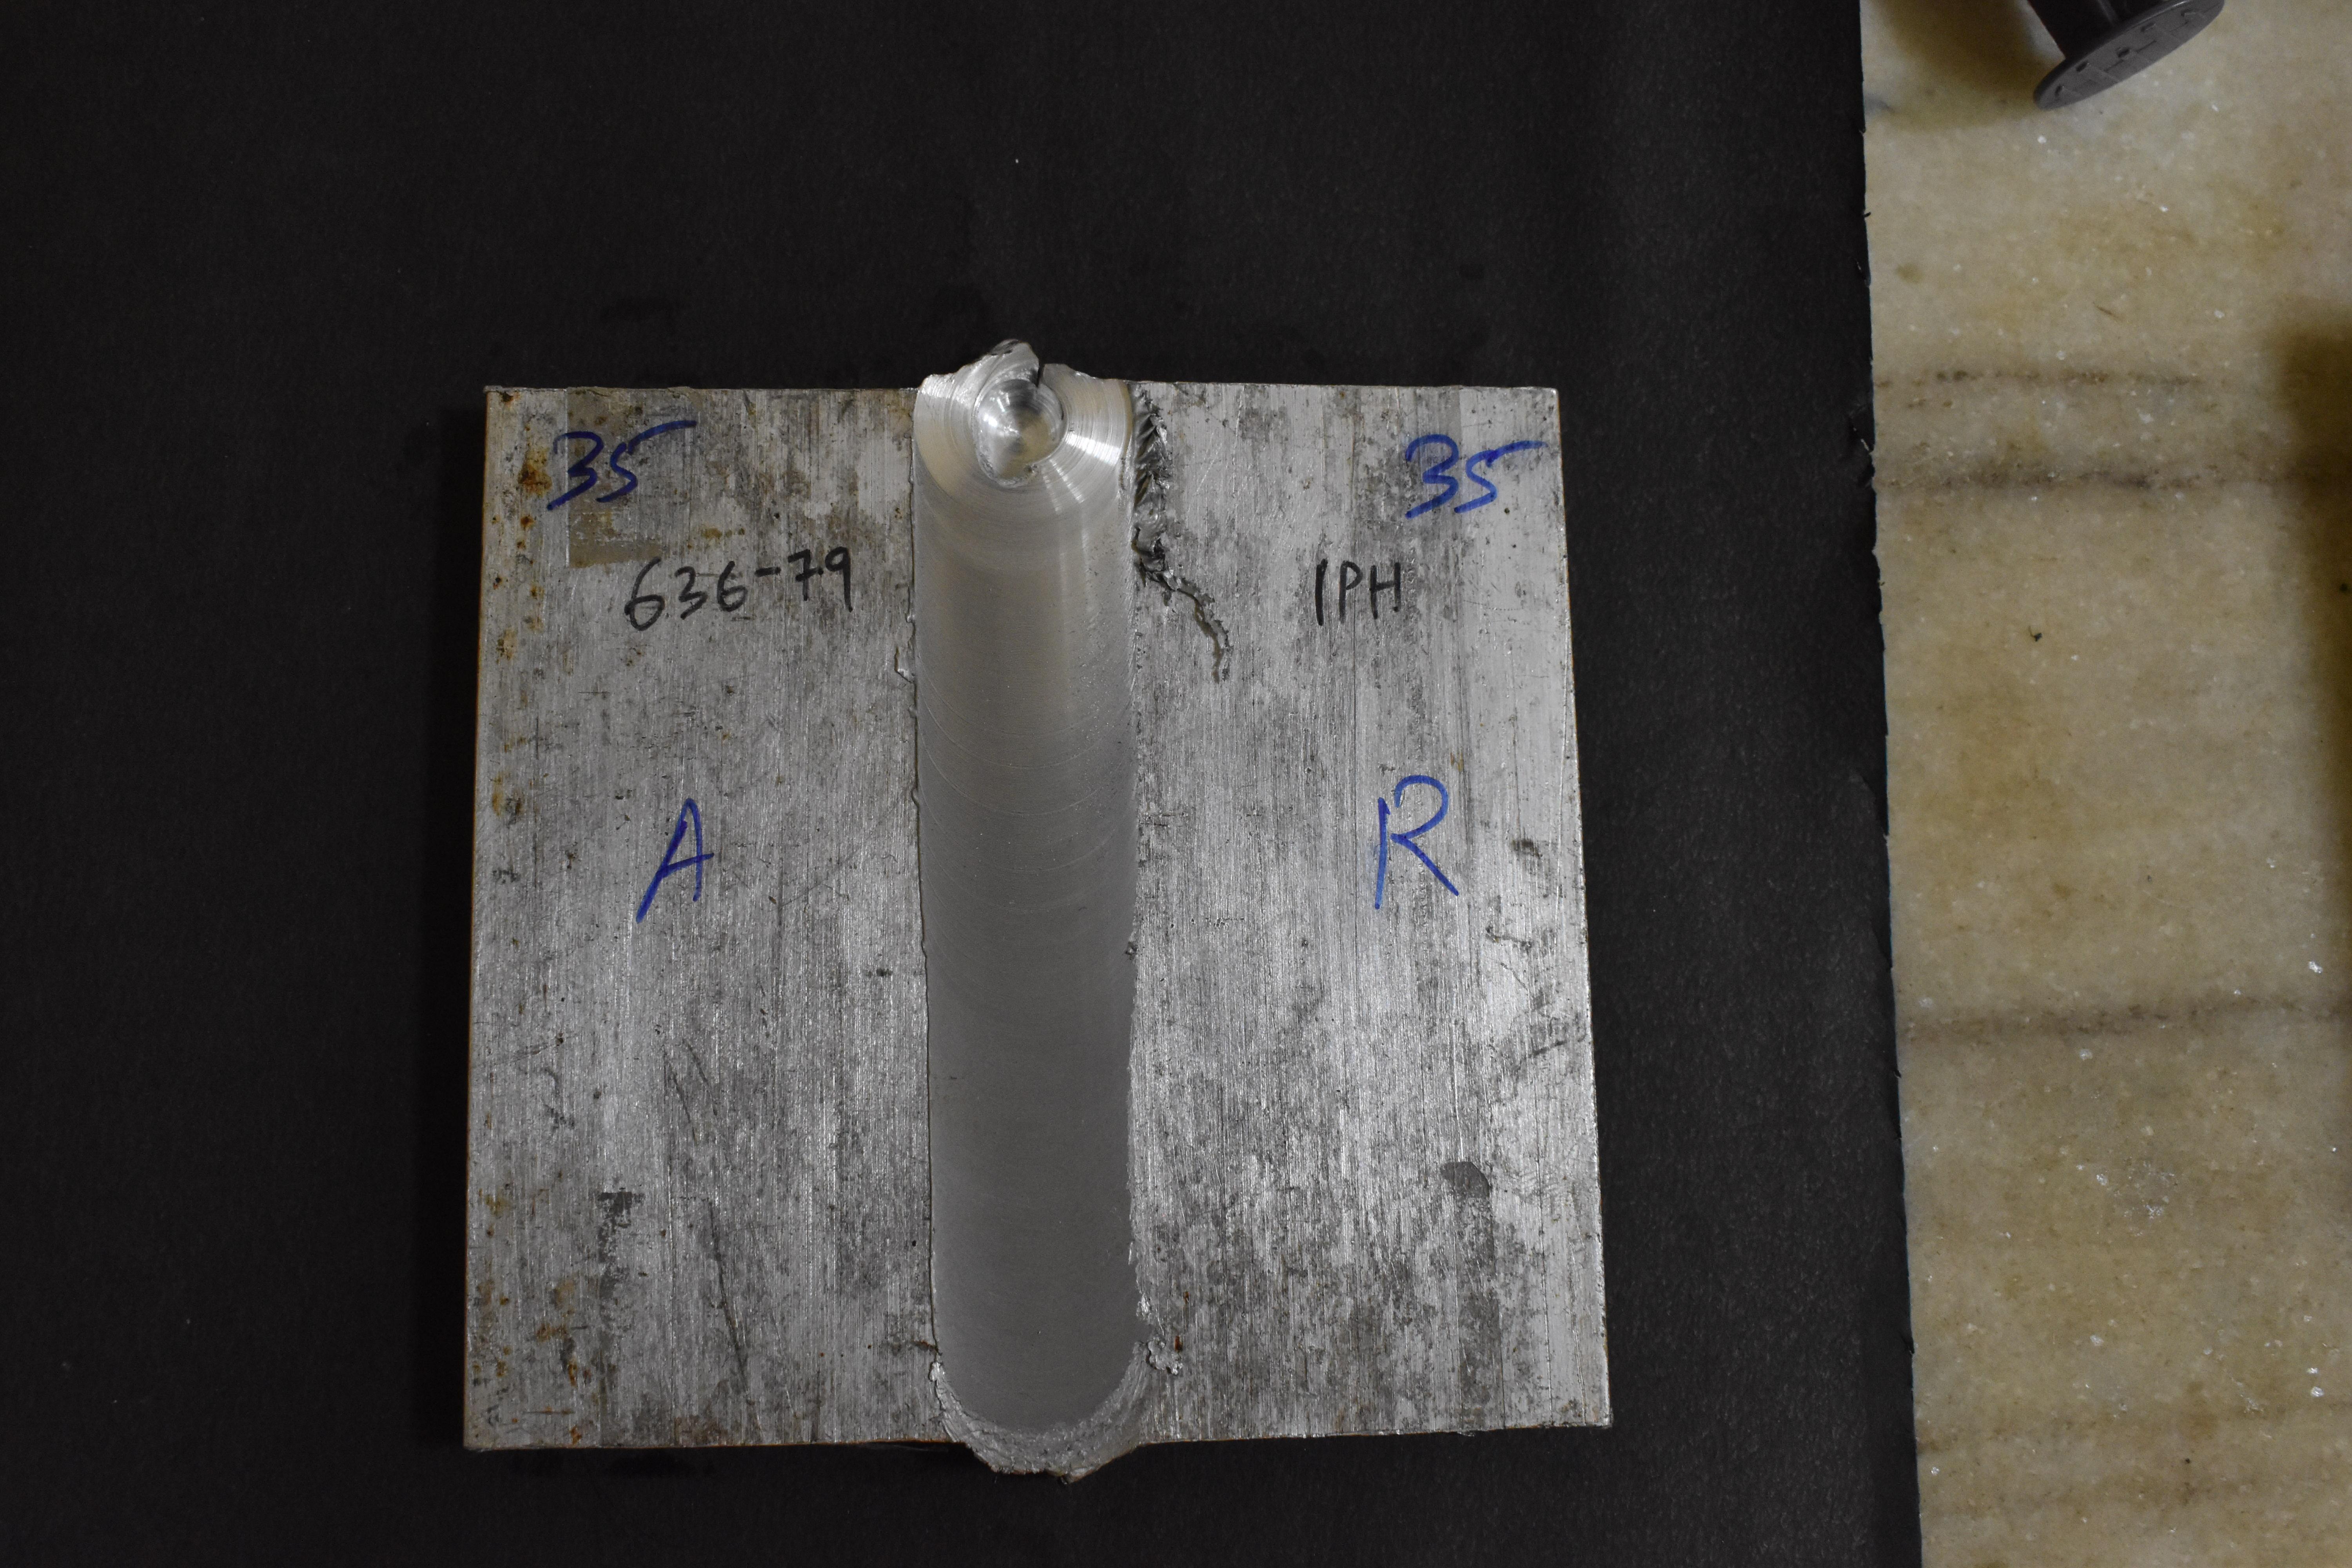flash: (1132, 380, 1176, 592), (955, 1432, 1130, 1483), (1187, 586, 1234, 671)
grooves: (943, 699, 1120, 955)
keyhole: (973, 376, 1058, 456)
